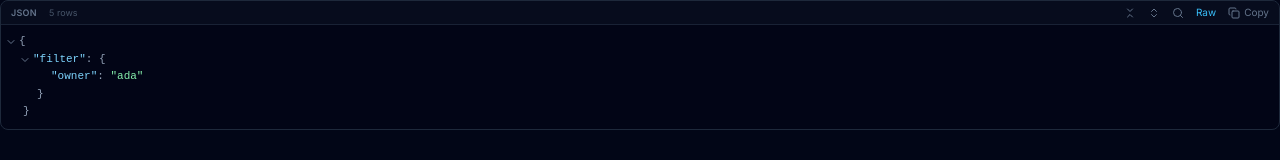
ValueView: a JSON value › folds a branch on click and says what is inside it
This screenshot has width=1280, height=160.
Click the button named "Fold" next to "filter" at [25, 60], box [19, 54, 31, 66]
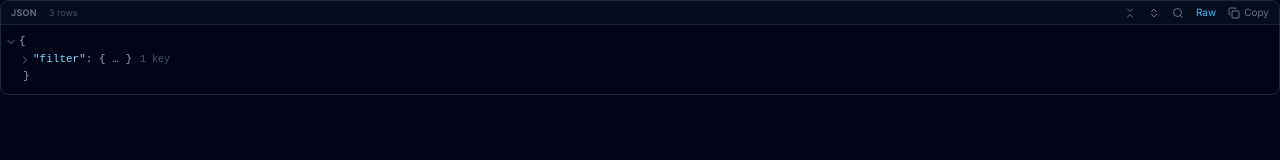
Expected: the text "owner" is gone
Expected: the text "1 key" is shown, [140, 54, 170, 65]
